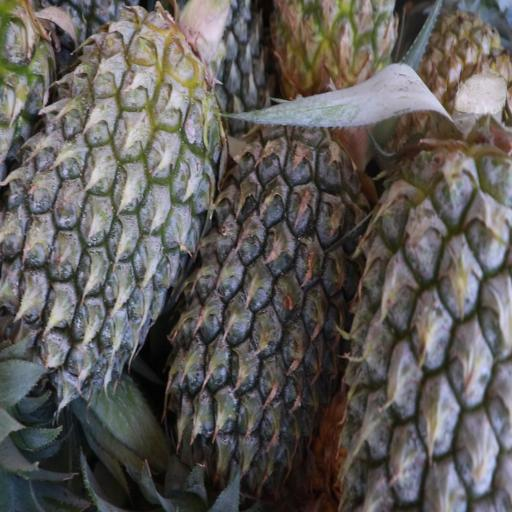------------------------------: (272, 0, 394, 104)
